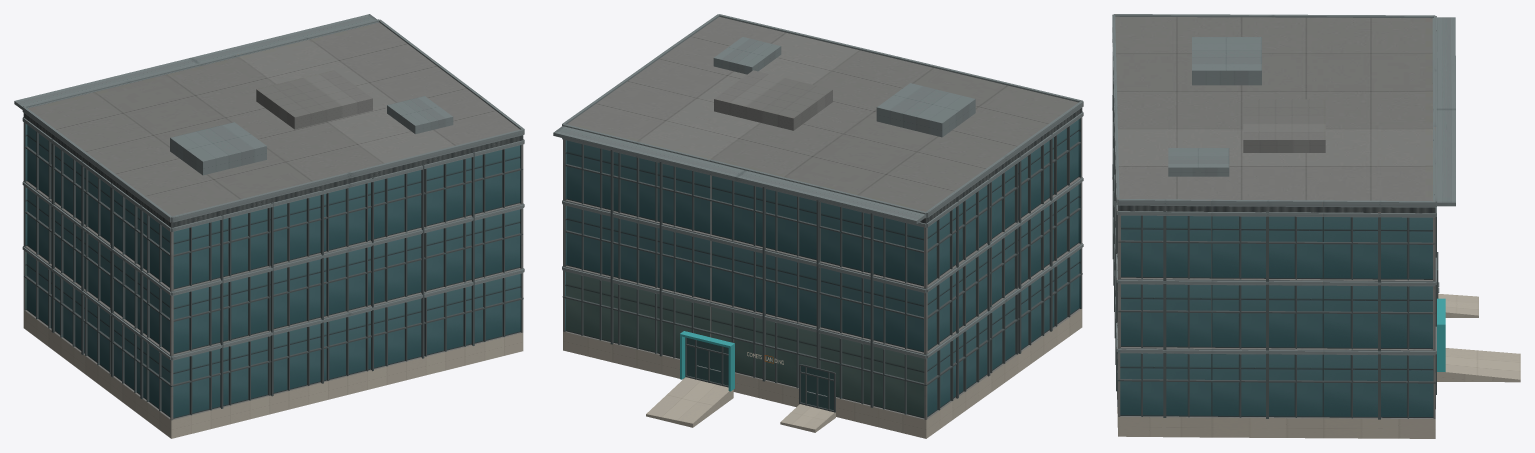
Rendered from comets_landing.glb.
3 renders of one model, left to right at view 1: azimuth 30°, elevation 25°; view 2: azimuth 150°, elevation 25°; view 3: azimuth 270°, elevation 25°, orthographic. The views are drawn at different scales.
Parts seen in each view (by area): view 1: comets_landing_CampusAtlas_facade, comets_landing_CampusAtlas_glass; view 2: comets_landing_CampusAtlas_facade, comets_landing_CampusAtlas_glass; view 3: comets_landing_CampusAtlas_facade, comets_landing_CampusAtlas_glass.
Boxes of the visible parts, box(x1,y1,x2,y2) form: comets_landing_CampusAtlas_facade: box(14, 14, 524, 438); comets_landing_CampusAtlas_glass: box(25, 123, 521, 418); comets_landing_CampusAtlas_facade: box(553, 14, 1083, 438); comets_landing_CampusAtlas_glass: box(565, 118, 1081, 418); comets_landing_CampusAtlas_facade: box(1112, 14, 1520, 438); comets_landing_CampusAtlas_glass: box(1120, 215, 1433, 417).
Size of the model in its own units: 28.63 by 18.19 by 26.24.
Materials: 2 (2 with a texture image).
